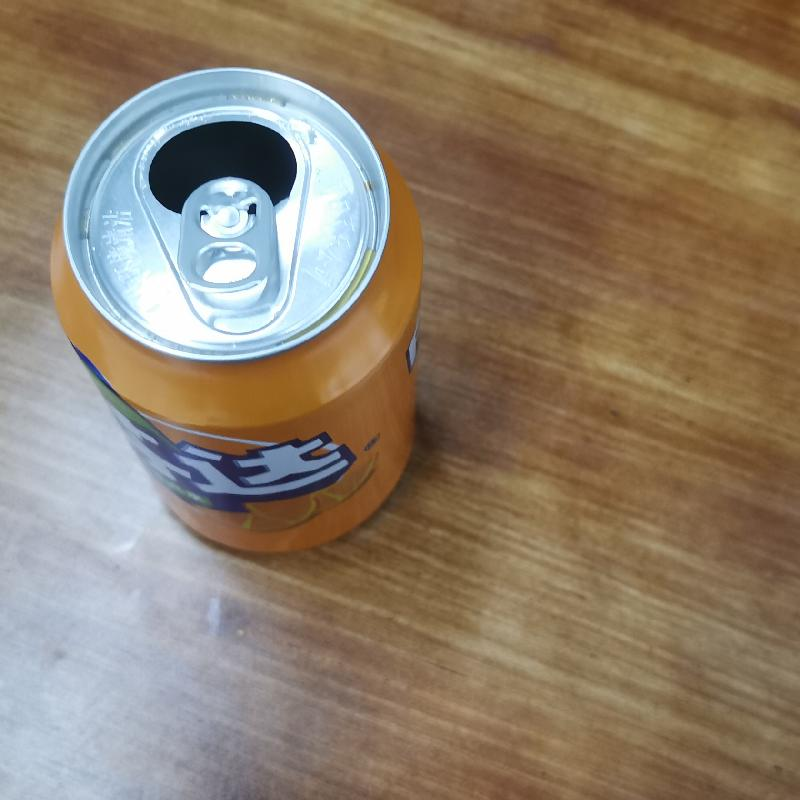cans: (46, 65, 422, 559)
